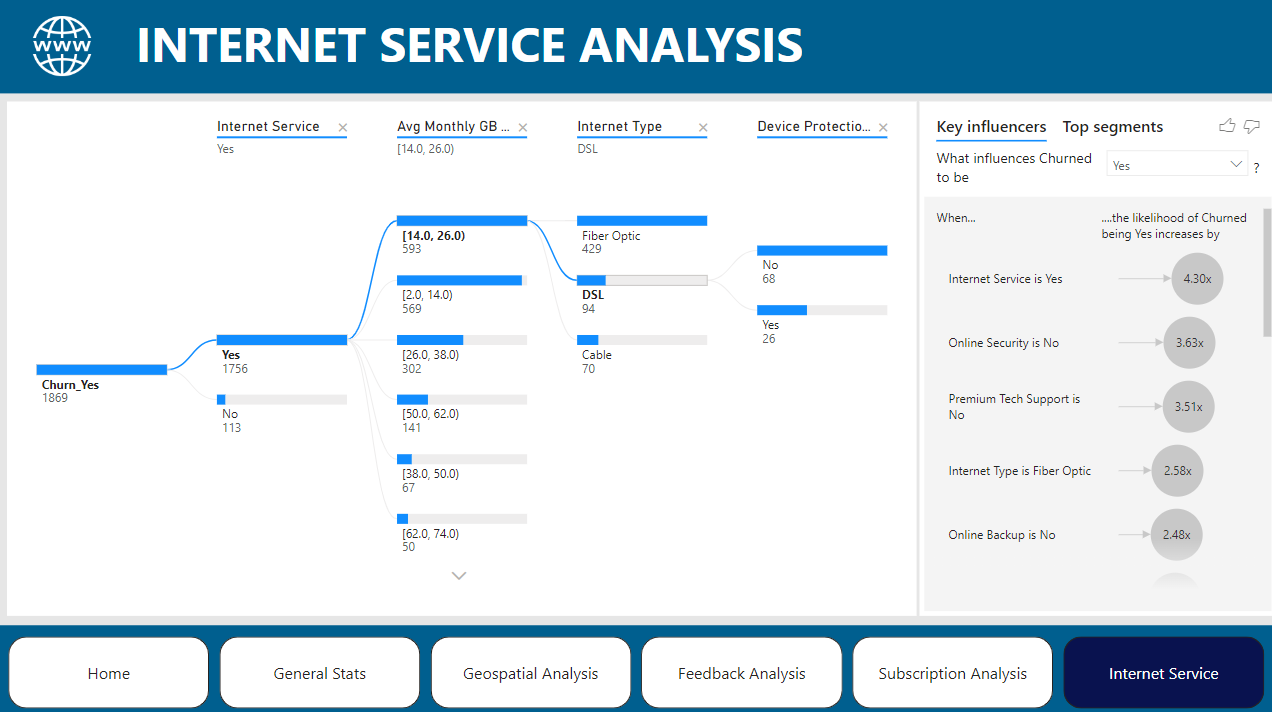

The dashboard page shown, as its layout file describes it:
{"tool":"powerbi","page":{"name":"Internet Service","canvas":[1280,720],"ordinal":5},"visuals":[{"type":"shape","box":[0,0,1279.9,720],"z":0},{"type":"shape","box":[0,625.9,1279.9,94.1],"z":1000},{"type":"shape","box":[0,0,1279.9,94.1],"z":2000},{"type":"keyDriversVisual","fields":{"Target":["telecom_customer_churn_preprocessed_1.Churned"],"ExplainBy":["telecom_customer_churn_preprocessed_1.Avg Monthly GB Download Bins","telecom_customer_churn_preprocessed_1.Device Protection Plan","telecom_customer_churn_preprocessed_1.Internet Service","telecom_customer_churn_preprocessed_1.Internet Type","telecom_customer_churn_preprocessed_1.Online Backup","telecom_customer_churn_preprocessed_1.Online Security","telecom_customer_churn_preprocessed_1.Premium Tech Support","telecom_customer_churn_preprocessed_1.Streaming Movies","telecom_customer_churn_preprocessed_1.Streaming Music","telecom_customer_churn_preprocessed_1.Streaming TV","telecom_customer_churn_preprocessed_1.Unlimited Data"]},"box":[922.9,102.7,356.9,514.6],"z":3000},{"type":"decompositionTreeVisual","fields":{"ExplainBy":["telecom_customer_churn_preprocessed_1.Internet Service","telecom_customer_churn_preprocessed_1.Avg Monthly GB Download Bins","telecom_customer_churn_preprocessed_1.Internet Type","telecom_customer_churn_preprocessed_1.Device Protection Plan","telecom_customer_churn_preprocessed_1.Online Security","telecom_customer_churn_preprocessed_1.Online Backup","telecom_customer_churn_preprocessed_1.Premium Tech Support","telecom_customer_churn_preprocessed_1.Streaming Movies","telecom_customer_churn_preprocessed_1.Streaming Music","telecom_customer_churn_preprocessed_1.Streaming TV","telecom_customer_churn_preprocessed_1.Unlimited Data"],"Analyze":["telecom_customer_churn_preprocessed_1.Churn_Yes"]},"box":[9.8,102.7,909.5,514.6],"z":4000},{"type":"pageNavigator","box":[11,636.9,1256.6,72.1],"z":5000},{"type":"textbox","box":[133.2,6.1,1121,81.9],"z":6000},{"type":"image","box":[28.1,6.1,75.8,81.9],"z":6001}]}

Visuals, with their boxes in screenshot pixels (x1, y1, x2, y2), scaled from the page's 1280x720 canvas onto the 1272x712 screenshot:
shape: pyautogui.locateOnScreen(0, 0, 1271, 711)
shape: pyautogui.locateOnScreen(0, 619, 1271, 711)
shape: pyautogui.locateOnScreen(0, 0, 1271, 93)
keyDriversVisual - telecom_customer_churn_preprocessed_1.Churned x telecom_customer_churn_preprocessed_1.Avg Monthly GB Download Bins: pyautogui.locateOnScreen(917, 102, 1271, 610)
decompositionTreeVisual - telecom_customer_churn_preprocessed_1.Internet Service x telecom_customer_churn_preprocessed_1.Avg Monthly GB Download Bins: pyautogui.locateOnScreen(10, 102, 914, 610)
pageNavigator: pyautogui.locateOnScreen(11, 630, 1260, 701)
textbox: pyautogui.locateOnScreen(132, 6, 1246, 87)
image: pyautogui.locateOnScreen(28, 6, 103, 87)
